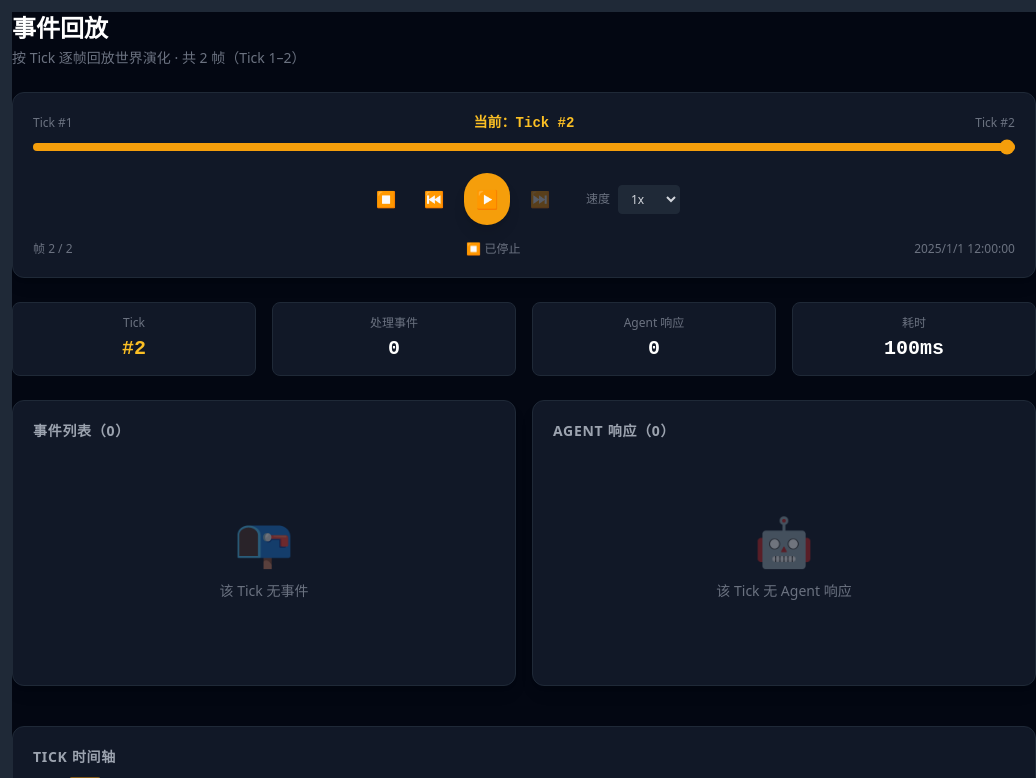
Scenario: TimelineReplay › 点击播放后应显示暂停按钮
Click the button with test id "btn-play" at [487, 199], box [464,173,510,225]
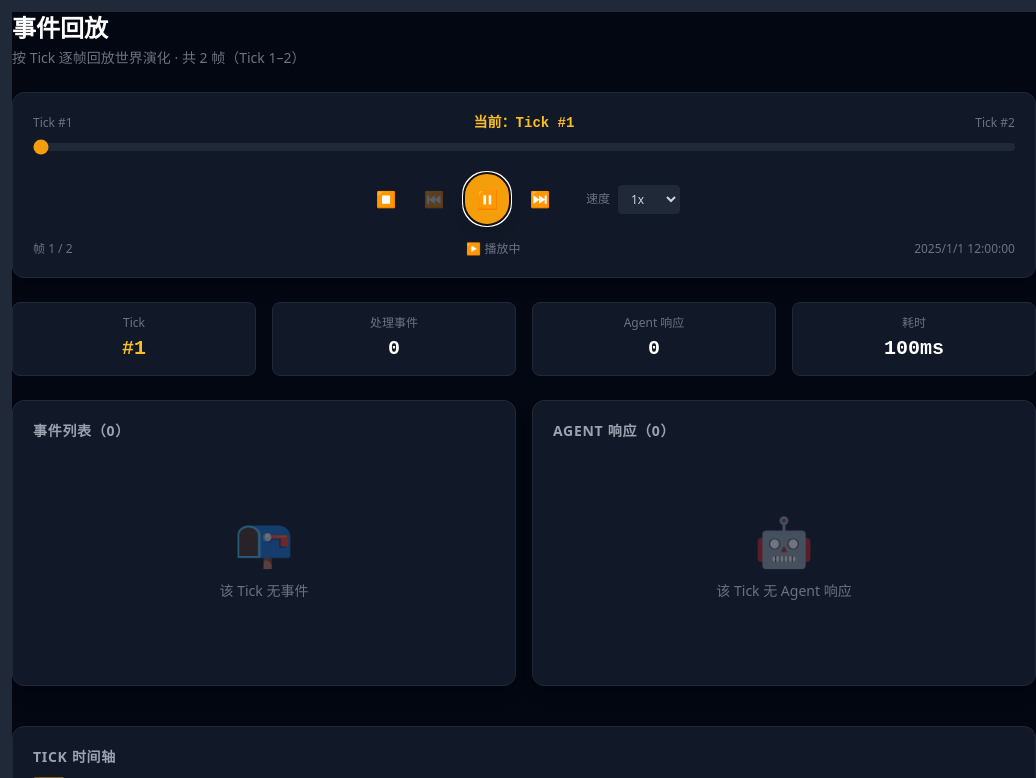
Expected: the button with test id "btn-pause" is shown, [464,173,510,225]
